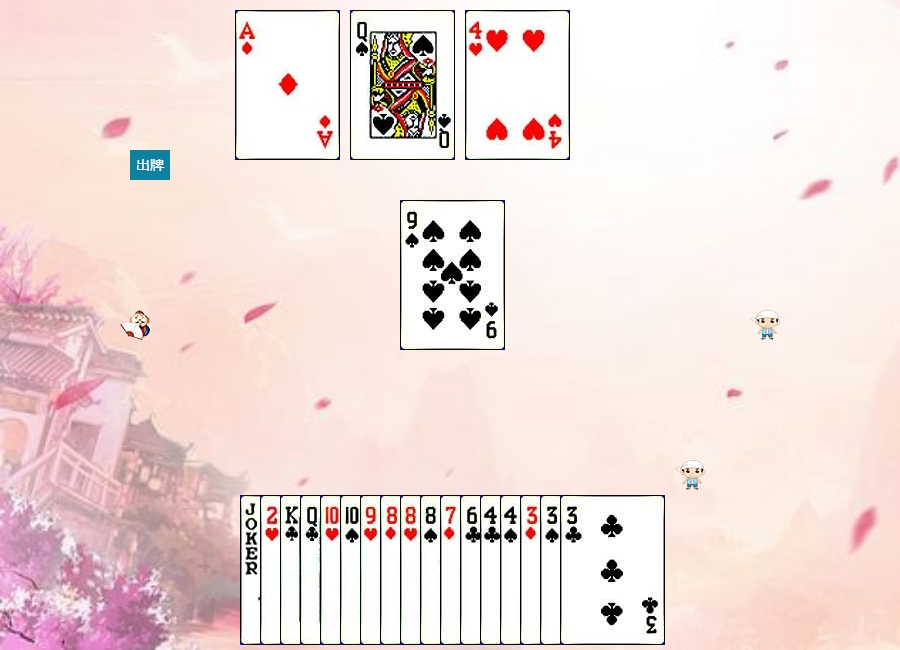10~3: (320, 495, 425, 645)
10~4: (340, 495, 445, 645)
12~2: (300, 495, 405, 645)
12~4: (350, 10, 455, 160)
13~2: (280, 495, 385, 645)
14~1: (235, 10, 340, 160)
15~3: (260, 495, 365, 645)
17~3: (240, 495, 345, 645)
3~1: (520, 495, 625, 645)
3~2: (560, 495, 665, 645)
3~4: (540, 495, 645, 645)
4~2: (480, 495, 585, 645)
4~3: (465, 10, 570, 160)
4~4: (500, 495, 605, 645)
6~2: (460, 495, 565, 645)
7~1: (440, 495, 545, 645)
8~1: (380, 495, 485, 645)
8~3: (400, 495, 505, 645)
8~4: (420, 495, 525, 645)
9~3: (360, 495, 465, 645)
9~4: (400, 200, 505, 350)
